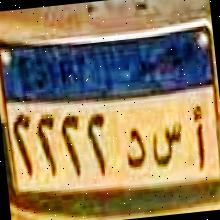2: (8, 108, 40, 184), (58, 106, 88, 182), (84, 108, 112, 180), (34, 110, 61, 179)
alif: (186, 101, 212, 181)
daal: (122, 124, 148, 173)
seen: (148, 113, 186, 175)
